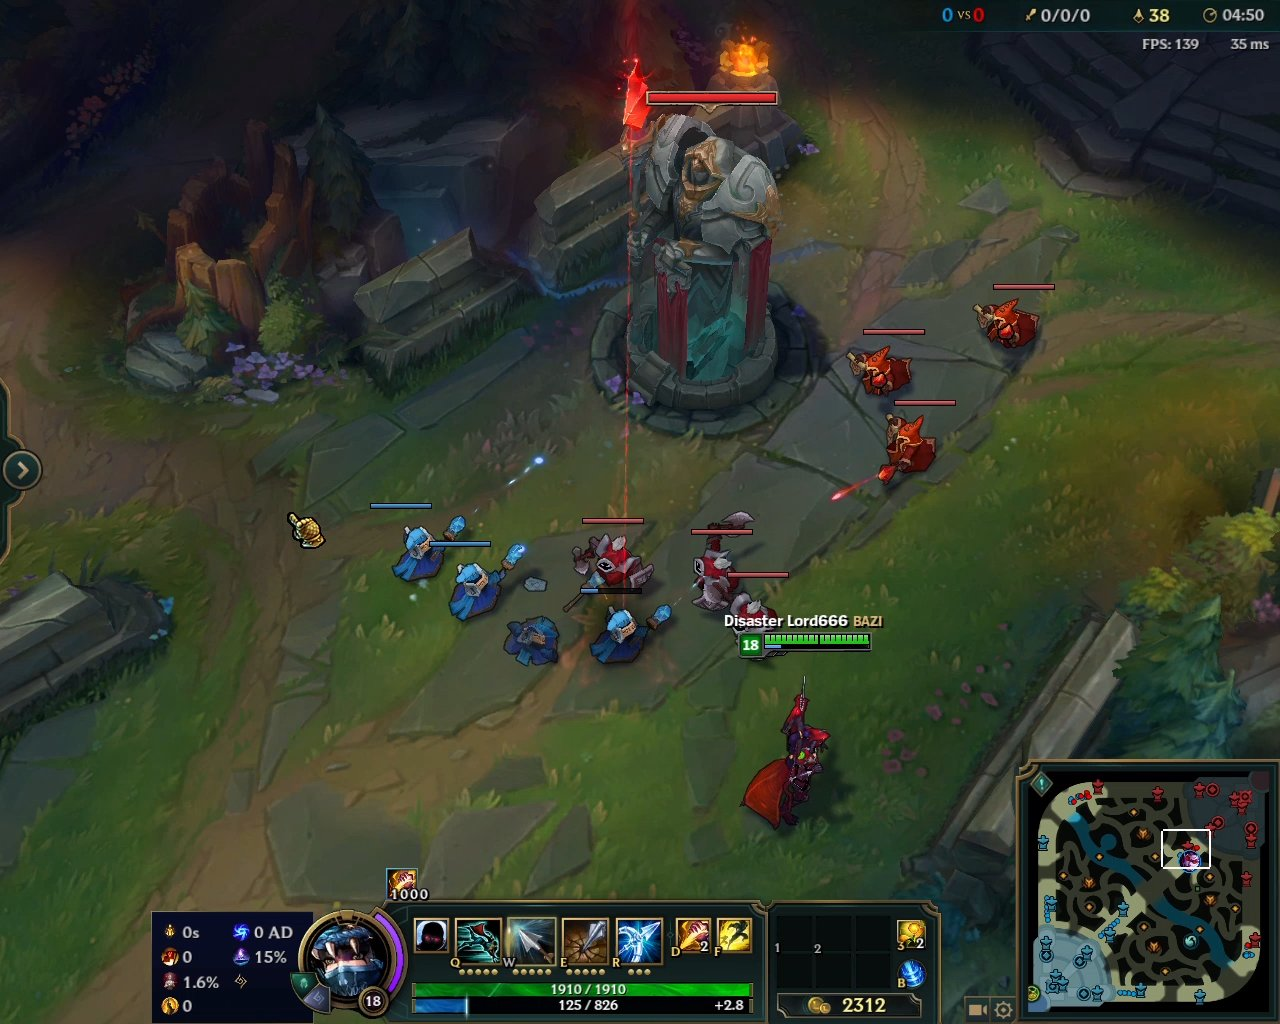EnemyMinion: (871, 400, 954, 486), (691, 509, 754, 613), (571, 520, 656, 591), (969, 282, 1053, 352), (847, 328, 929, 400)
Tower: (613, 55, 802, 422)
Vayne: (739, 669, 837, 835)
